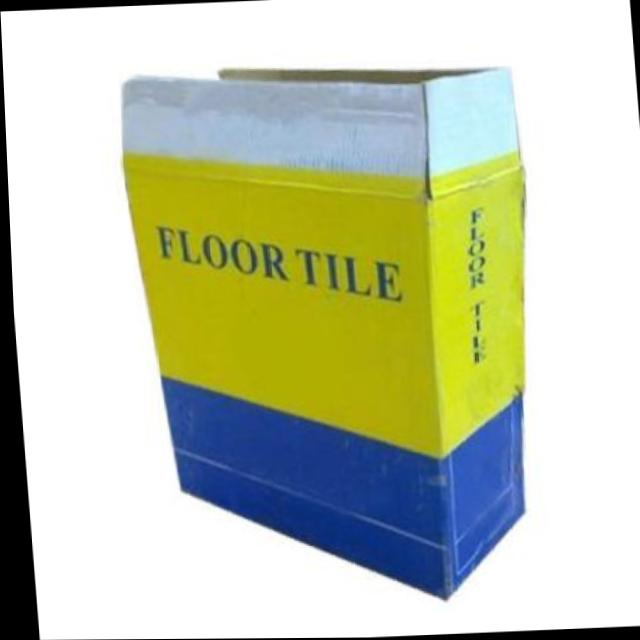box: (85, 20, 590, 619)
